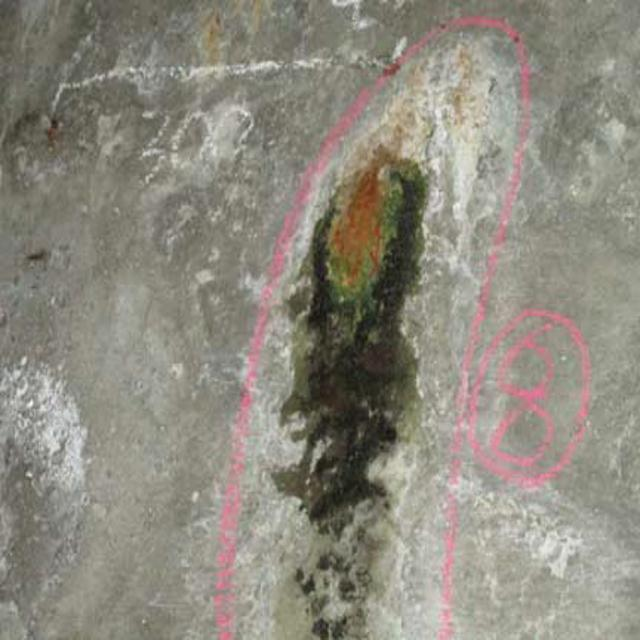freelime: (276, 31, 510, 520)
